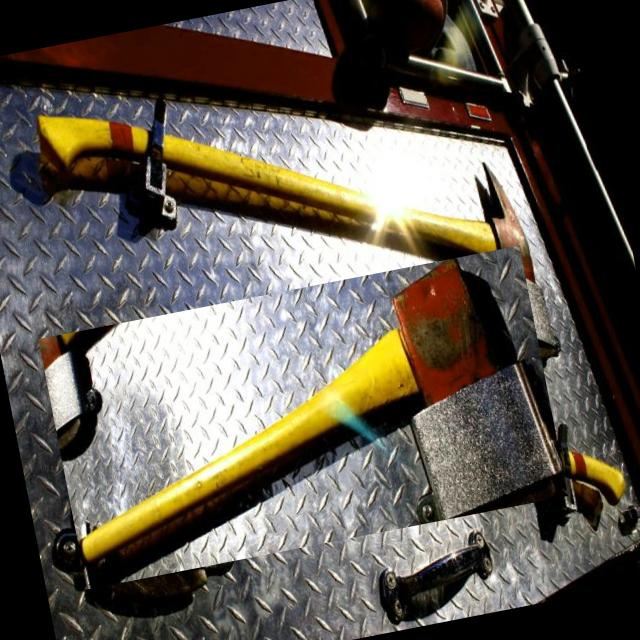Axe: (80, 260, 563, 564), (163, 137, 555, 345), (38, 116, 150, 166), (569, 453, 625, 501)
